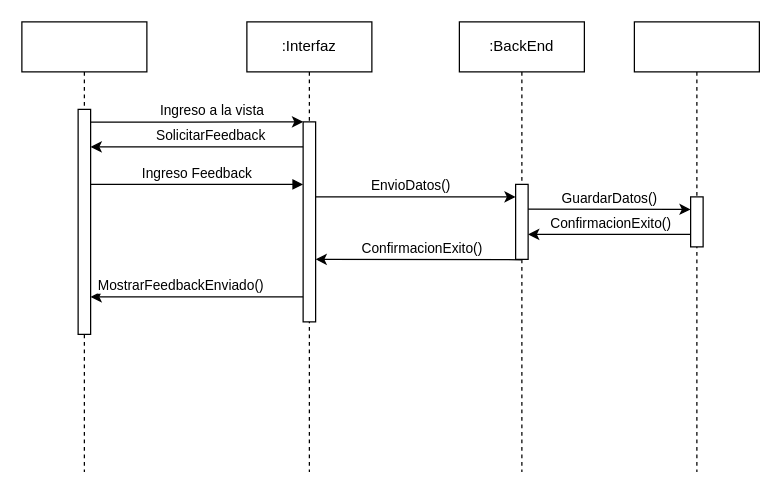
Image size: 781x494. Some labels were removed from this diagram. Here are the shapes that lost their labels. From the top down, the box of each, then its label:
(21, 21, 147, 472): :Usuario
(633, 21, 759, 472): :DataBase
